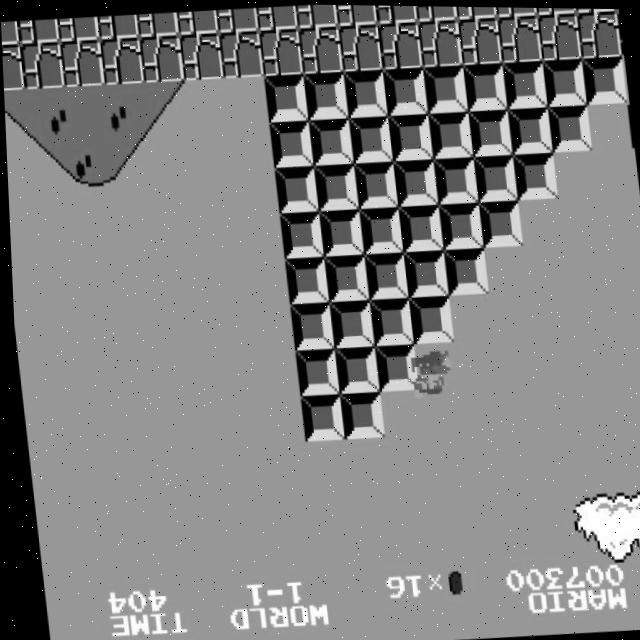11- little_mario: (406, 348, 454, 401)
14- pipe: (622, 55, 628, 101)
15- pipe_head: (626, 100, 633, 145)
17- undestructible_block: (496, 12, 542, 62), (18, 40, 64, 90), (456, 15, 502, 64), (416, 17, 462, 66), (297, 24, 343, 73), (257, 26, 303, 75), (217, 29, 263, 78), (98, 36, 144, 85), (58, 38, 104, 87), (377, 19, 422, 69), (337, 21, 382, 71), (178, 31, 223, 81), (138, 33, 183, 83), (576, 8, 621, 57), (536, 10, 581, 59), (95, 13, 139, 40), (215, 6, 259, 32), (175, 9, 219, 35), (135, 11, 179, 37), (16, 18, 60, 44), (255, 4, 298, 30), (56, 16, 99, 42), (294, 3, 338, 28), (2, 43, 23, 91), (334, 4, 378, 25), (374, 4, 418, 23), (414, 5, 458, 20), (454, 5, 497, 19), (1, 20, 19, 46), (494, 6, 537, 16), (534, 6, 577, 14), (617, 9, 623, 55)
9- hard_block: (545, 101, 591, 151), (501, 58, 547, 108), (475, 197, 521, 247), (461, 60, 507, 110), (436, 199, 482, 249), (426, 108, 472, 158), (396, 202, 442, 252), (386, 110, 432, 160), (370, 341, 416, 391), (356, 204, 402, 254), (330, 343, 376, 393), (306, 115, 352, 165), (286, 300, 332, 350), (276, 209, 322, 259), (262, 72, 308, 122), (505, 104, 551, 153), (466, 106, 512, 155), (440, 246, 486, 295), (421, 63, 467, 112), (346, 113, 392, 162), (321, 253, 367, 302), (316, 207, 362, 256), (302, 70, 348, 119), (290, 346, 336, 395), (281, 255, 327, 304), (267, 118, 313, 167), (406, 293, 451, 343), (382, 65, 427, 115), (342, 67, 387, 117), (326, 298, 371, 348), (391, 157, 437, 205), (351, 160, 397, 208), (335, 390, 381, 438), (581, 54, 626, 103), (541, 56, 586, 105), (471, 152, 516, 201), (431, 154, 476, 203), (366, 296, 411, 345), (296, 392, 341, 441), (272, 164, 317, 213), (511, 150, 556, 198), (401, 249, 446, 297), (361, 251, 406, 299), (312, 162, 357, 210)
